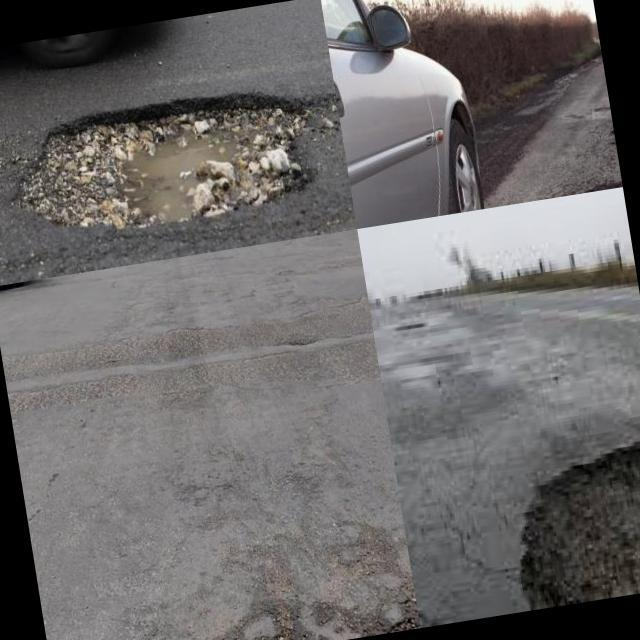Pothole: (13, 92, 314, 228)
